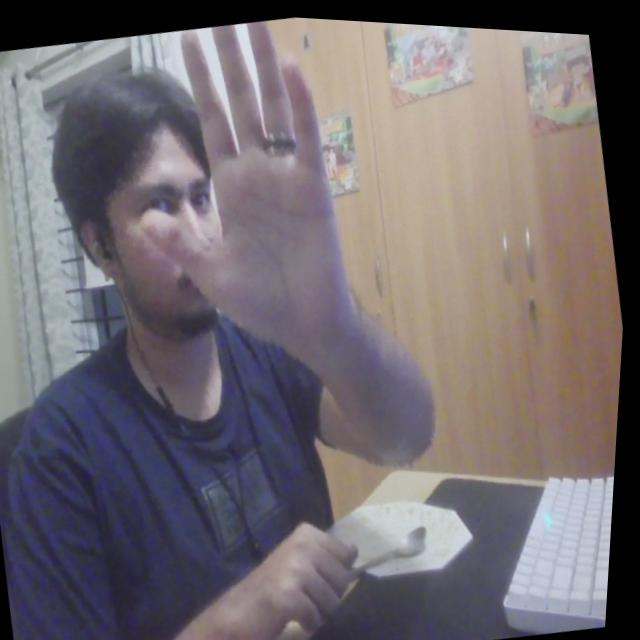hello: (104, 6, 390, 378)
